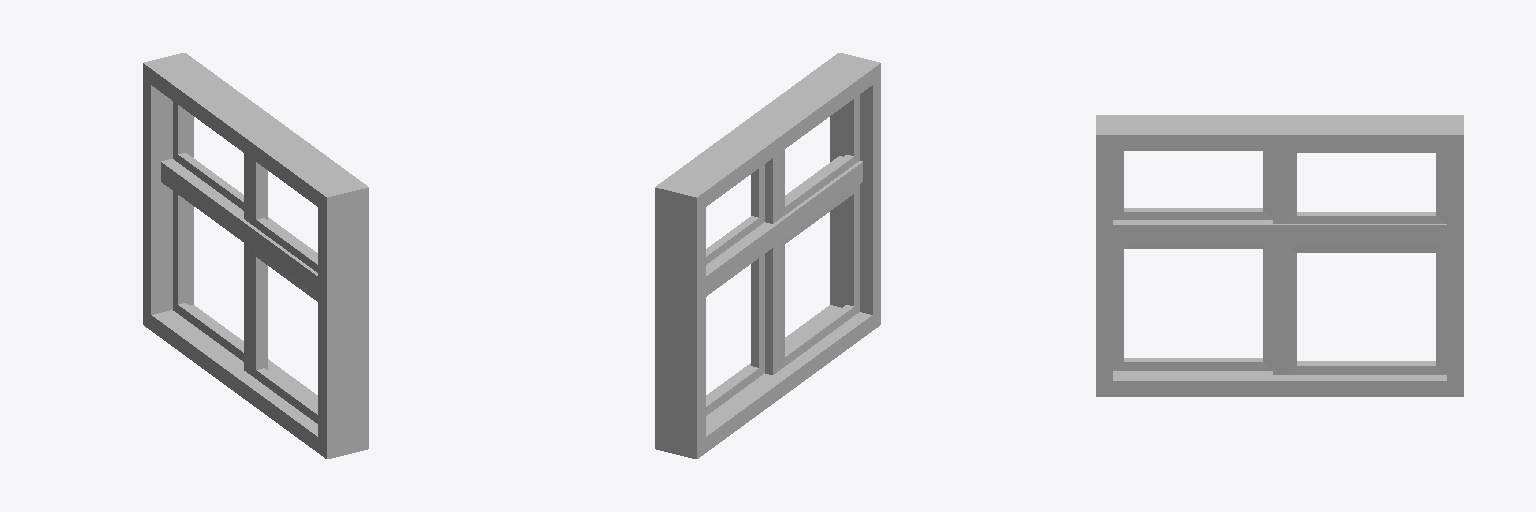
The model's file is Outline.obj.
3 views of the same model, side by side, from view 1: azimuth 30°, elevation 25°; view 2: azimuth 150°, elevation 25°; view 3: azimuth 270°, elevation 25° (orthographic).
Visible parts, largest first — view 1: Box012; view 2: Box012; view 3: Box012.
Boxes of the visible parts, x1,y1,x2,y2 form: Box012: [143, 53, 368, 458]; Box012: [655, 53, 880, 458]; Box012: [1096, 115, 1463, 396].
Size of the model in its own units: 32.18 by 190 by 242.